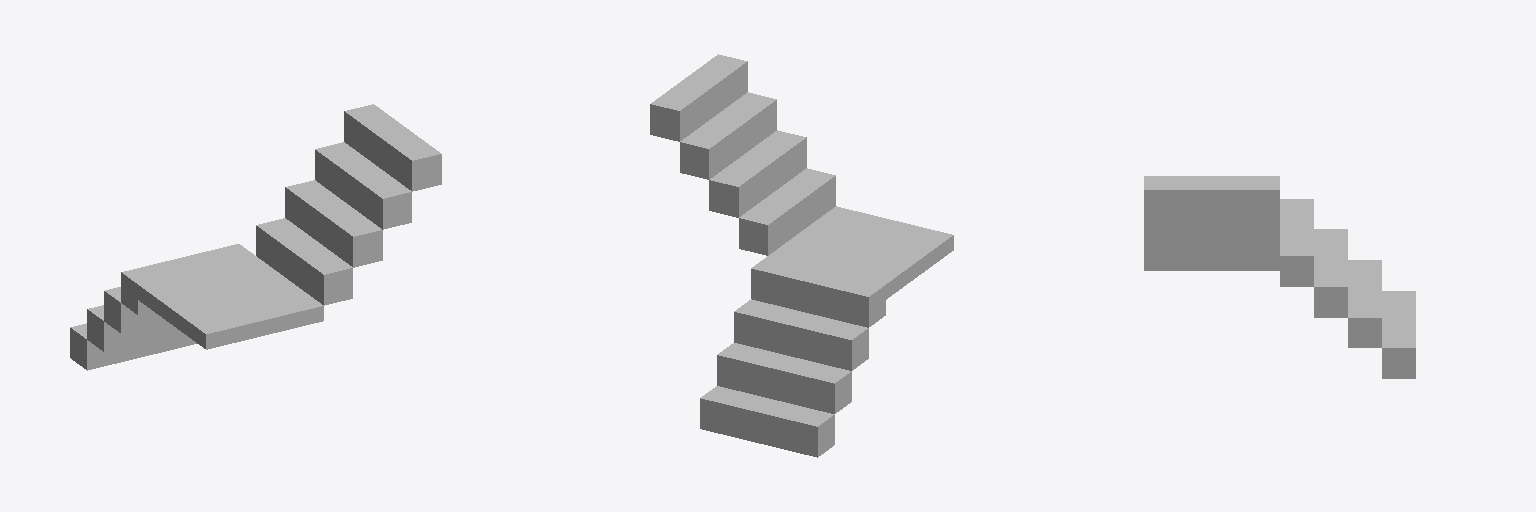
File: stairs-corner.obj
The picture shows the model from 3 angles: view 1: azimuth 30°, elevation 25°; view 2: azimuth 150°, elevation 25°; view 3: azimuth 270°, elevation 25°; orthographic projection.
Parts seen in each view (by area): view 1: stairs-corner; view 2: stairs-corner; view 3: stairs-corner.
Boxes of the visible parts, box(x1,y1,x2,y2) form: stairs-corner: box(70, 104, 441, 370); stairs-corner: box(650, 54, 953, 457); stairs-corner: box(1144, 176, 1415, 378).
Size of the model in its own units: 1 by 1 by 1.